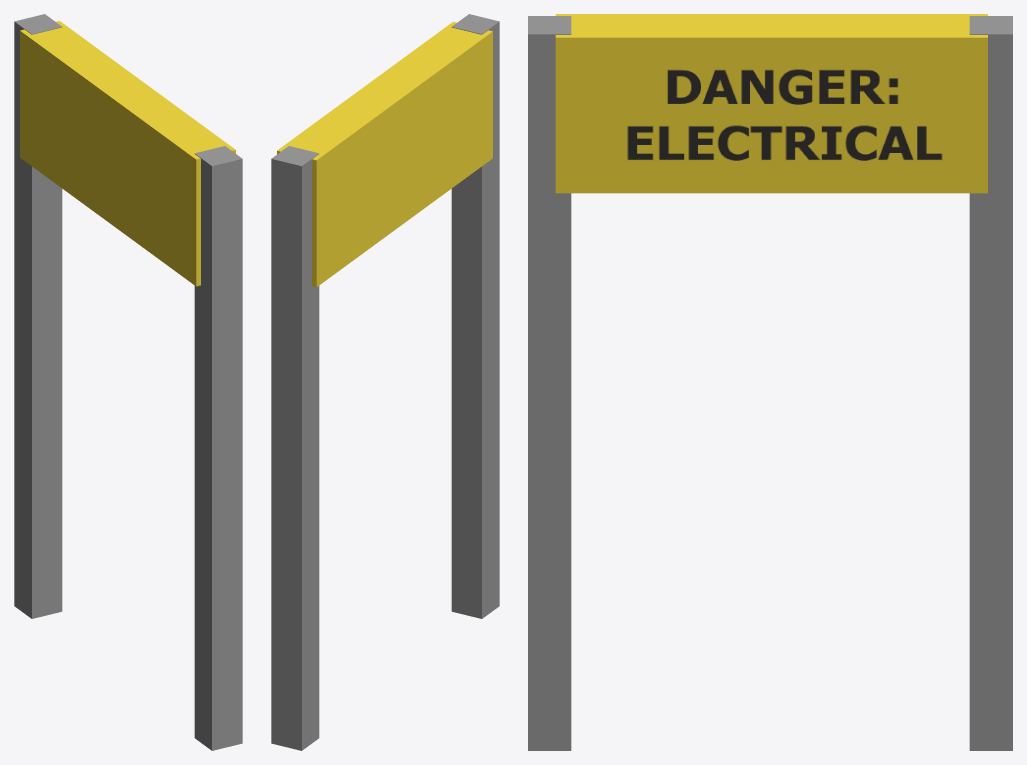
File: dangersign.fbx
3 views of the same model, side by side, from view 1: azimuth 30°, elevation 25°; view 2: azimuth 150°, elevation 25°; view 3: azimuth 270°, elevation 25° (orthographic). The views are drawn at different scales.
Visible parts, largest first — view 1: Cube, Cube.001, Cube.002; view 2: Cube, Cube.002, Cube.001; view 3: Cube, Cube.001, Cube.002.
Boxes of the visible parts, x1=… form: Cube: x1=20, y1=21, x2=235, y2=286; Cube.001: x1=194, y1=146, x2=242, y2=750; Cube.002: x1=14, y1=14, x2=62, y2=618; Cube: x1=277, y1=21, x2=492, y2=287; Cube.002: x1=271, y1=146, x2=319, y2=750; Cube.001: x1=451, y1=14, x2=499, y2=618; Cube: x1=555, y1=14, x2=987, y2=193; Cube.001: x1=528, y1=16, x2=571, y2=750; Cube.002: x1=969, y1=16, x2=1012, y2=750.
Bounding box in the file's own units: 26.05 × 366 × 224.
